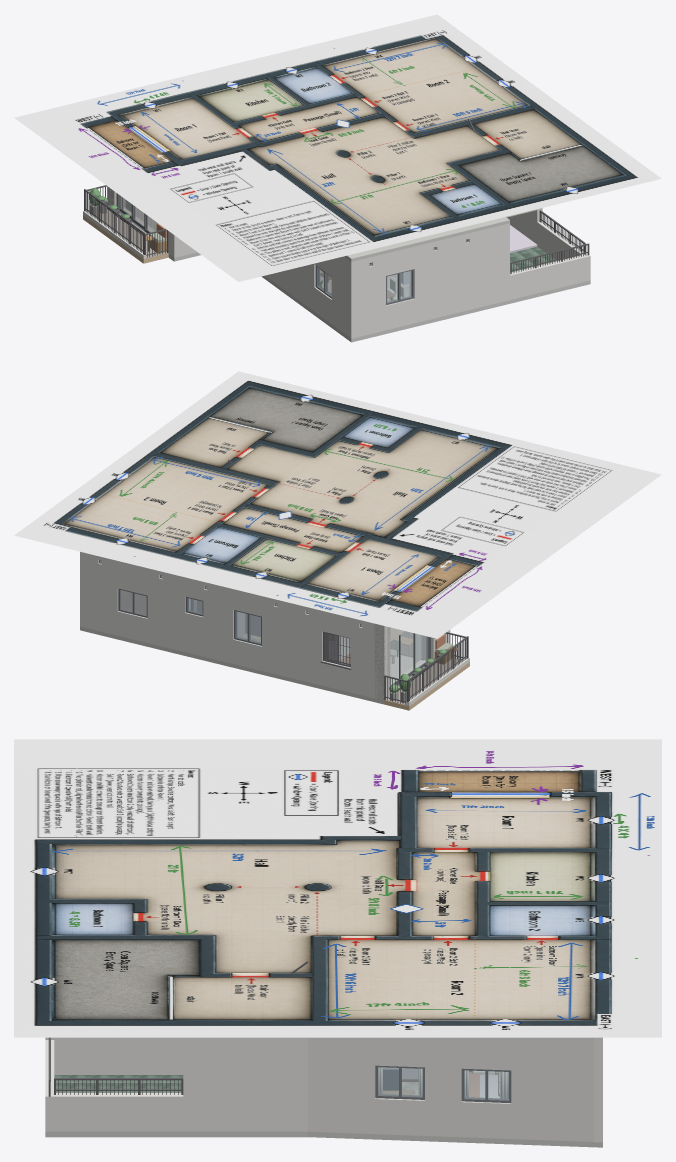
Rendered from MyFlat_V2_Hall_Recommended.glb.
3 renders of one model, top to bottom at view 1: azimuth 30°, elevation 25°; view 2: azimuth 150°, elevation 25°; view 3: azimuth 270°, elevation 25°, orthographic. The views are drawn at different scales.
Visible parts, largest first — view 1: PLAN_REFERENCE_OVERLAY, WALL_EXT_S_HALL, WALL_EXT_W_HALL, PARAPET_OPENSQ_S, SLAB_FLOOR_STRUCTURAL, BALCONY_RAILING_W, SLAB_ROOF, PARAPET_OPENSQ_E, RAILING_OPENSQ_S, R1_DEF_BALCONY_FLOOR_FINISH, WALL_EXT_E_STAIR, HR_OPENSQ_FINISH (+2 smaller); view 2: PLAN_REFERENCE_OVERLAY, WALL_EXT_N_R1, WALL_EXT_N_R2, WALL_EXT_N_KIT, WALL_EXT_N_B2, BALCONY_RAILING_W, SLAB_FLOOR_STRUCTURAL, PILLAR_R1_NW, R1_DEF_BALCONY_CURTAIN_SHEER, R1_DEF_BALCONY_FLOOR_FINISH, WINDOW_W2_GLASS, WALL_EXT_W_R1_BALCONY (+1 smaller); view 3: PLAN_REFERENCE_OVERLAY, WALL_EXT_E_R2_TAPERED, WALL_EXT_E_STAIR, PARAPET_OPENSQ_E, WALL_INT_OPENSQ_W, SLAB_FLOOR_STRUCTURAL, HR_OPENSQ_FINISH, WINDOW_W5_GLASS, WINDOW_W6_GLASS, RAILING_OPENSQ_E, WALL_EXT_N_R2, PARAPET_OPENSQ_S (+2 smaller).
Boxes of the visible parts, bbox=[...] form: PLAN_REFERENCE_OVERLAY: bbox=[14, 14, 661, 281]; WALL_EXT_S_HALL: bbox=[348, 223, 509, 338]; WALL_EXT_W_HALL: bbox=[265, 256, 356, 338]; PARAPET_OPENSQ_S: bbox=[510, 254, 590, 299]; SLAB_FLOOR_STRUCTURAL: bbox=[168, 252, 590, 342]; BALCONY_RAILING_W: bbox=[84, 189, 145, 254]; SLAB_ROOF: bbox=[344, 217, 509, 261]; PARAPET_OPENSQ_E: bbox=[537, 221, 587, 260]; RAILING_OPENSQ_S: bbox=[510, 243, 589, 274]; R1_DEF_BALCONY_FLOOR_FINISH: bbox=[96, 209, 168, 258]; WALL_EXT_E_STAIR: bbox=[507, 208, 542, 244]; HR_OPENSQ_FINISH: bbox=[510, 246, 556, 272]; PLAN_REFERENCE_OVERLAY: bbox=[14, 371, 661, 638]; WALL_EXT_N_R1: bbox=[283, 601, 387, 700]; WALL_EXT_N_R2: bbox=[80, 553, 176, 649]; WALL_EXT_N_KIT: bbox=[211, 584, 283, 676]; WALL_EXT_N_B2: bbox=[177, 575, 211, 658]; BALCONY_RAILING_W: bbox=[407, 636, 468, 701]; SLAB_FLOOR_STRUCTURAL: bbox=[80, 626, 384, 704]; PILLAR_R1_NW: bbox=[374, 623, 390, 700]; R1_DEF_BALCONY_CURTAIN_SHEER: bbox=[390, 631, 421, 681]; R1_DEF_BALCONY_FLOOR_FINISH: bbox=[385, 658, 462, 705]; WINDOW_W2_GLASS: bbox=[236, 611, 260, 642]; WALL_EXT_W_R1_BALCONY: bbox=[375, 624, 449, 698]; PLAN_REFERENCE_OVERLAY: bbox=[14, 739, 661, 1037]; WALL_EXT_E_R2_TAPERED: bbox=[307, 1037, 594, 1141]; WALL_EXT_E_STAIR: bbox=[183, 1037, 307, 1131]; PARAPET_OPENSQ_E: bbox=[54, 1093, 183, 1131]; WALL_INT_OPENSQ_W: bbox=[54, 1037, 183, 1074]; SLAB_FLOOR_STRUCTURAL: bbox=[45, 1131, 602, 1147]; HR_OPENSQ_FINISH: bbox=[54, 1075, 183, 1092]; WINDOW_W5_GLASS: bbox=[464, 1070, 508, 1099]; WINDOW_W6_GLASS: bbox=[378, 1067, 422, 1096]; RAILING_OPENSQ_E: bbox=[54, 1078, 183, 1094]; WALL_EXT_N_R2: bbox=[594, 1037, 602, 1142]; PARAPET_OPENSQ_S: bbox=[45, 1040, 54, 1131].
Size of what is drawn, in the model's own units: 18.03 by 4.33 by 16.55.
Materials: 126 (5 with a texture image).
